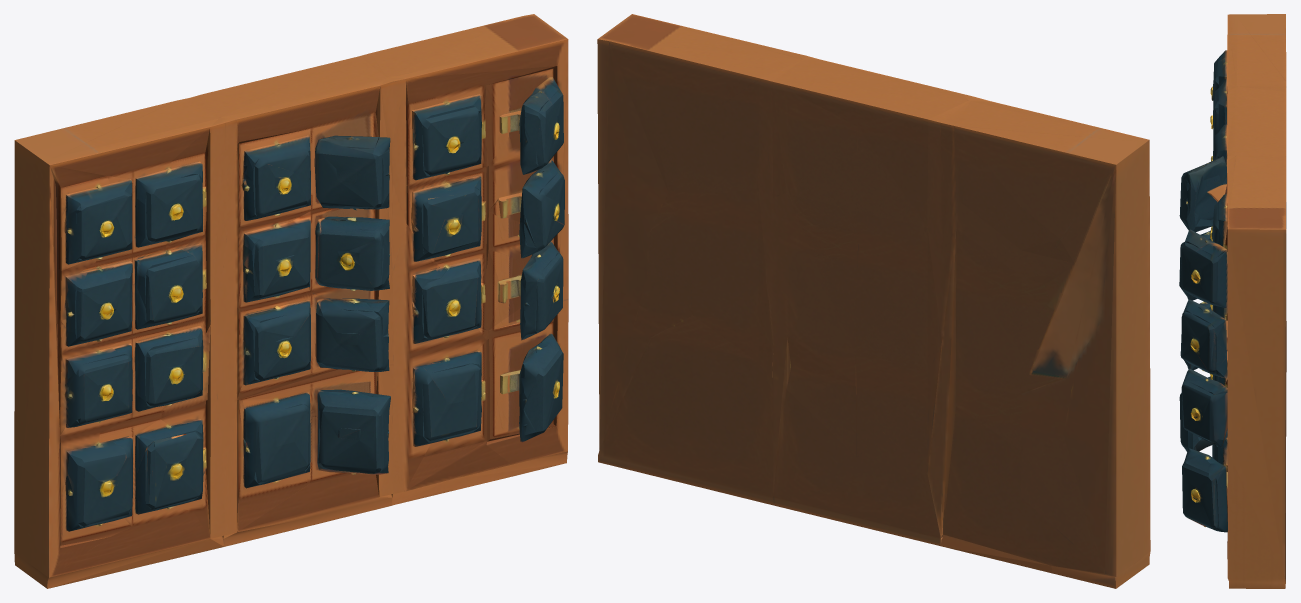
File: lockers.glb
The picture shows the model from 3 angles, left to right: view 1: azimuth 30°, elevation 25°; view 2: azimuth 150°, elevation 25°; view 3: azimuth 270°, elevation 25°; orthographic projection. The views are drawn at different scales.
Bounding box in the file's own units: 1.9 × 1.49 × 0.4003.
1 material, 1 textured.
